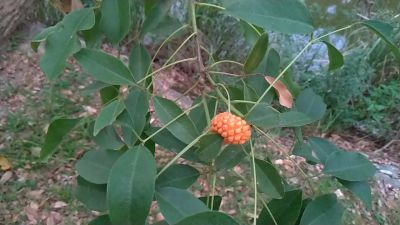eggs: (207, 104, 260, 151)
